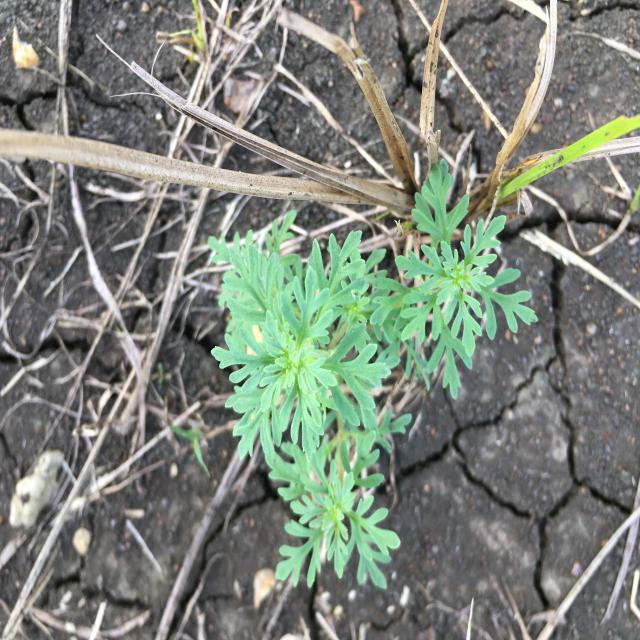Ragweed: (207, 156, 540, 593)
